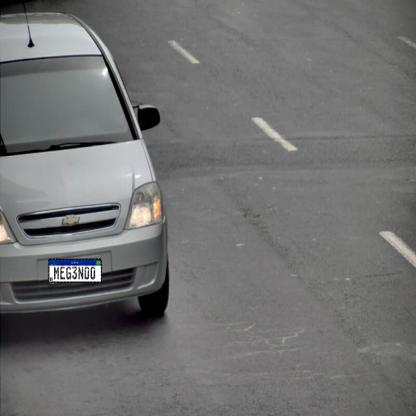PlacaM: (48, 258, 102, 283)
